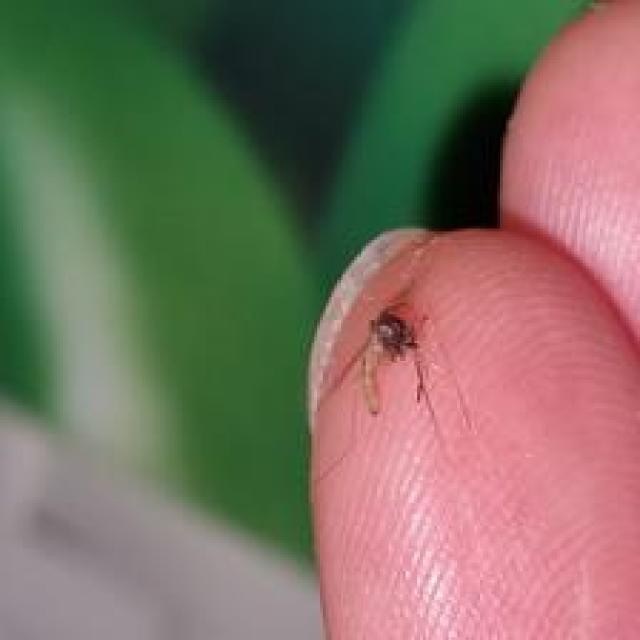Culex: (313, 296, 473, 438)
